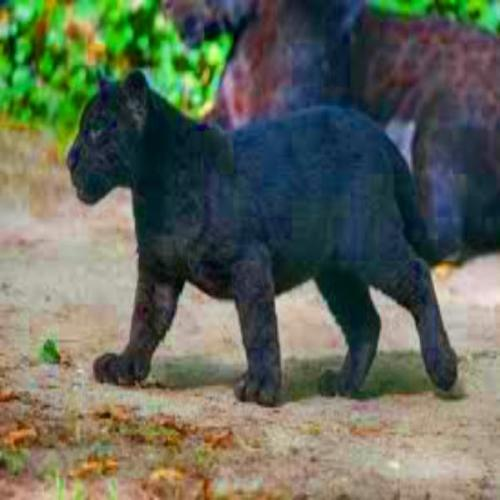panther-endangered: (68, 70, 459, 405)
